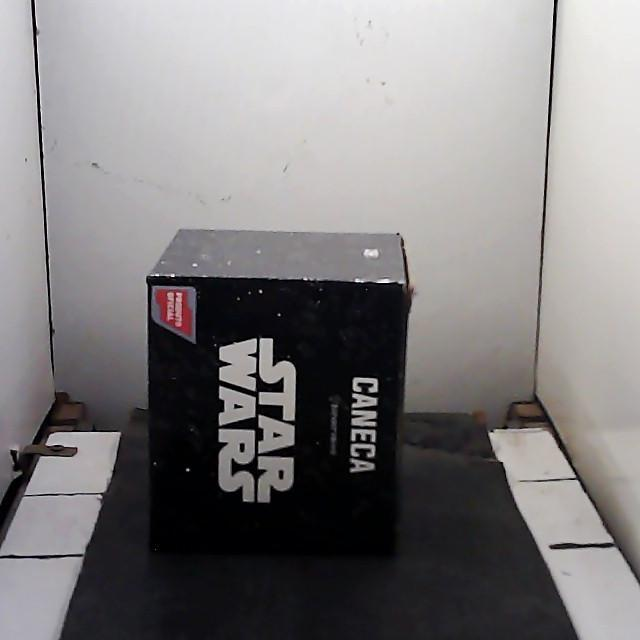papel: (147, 229, 410, 552)
